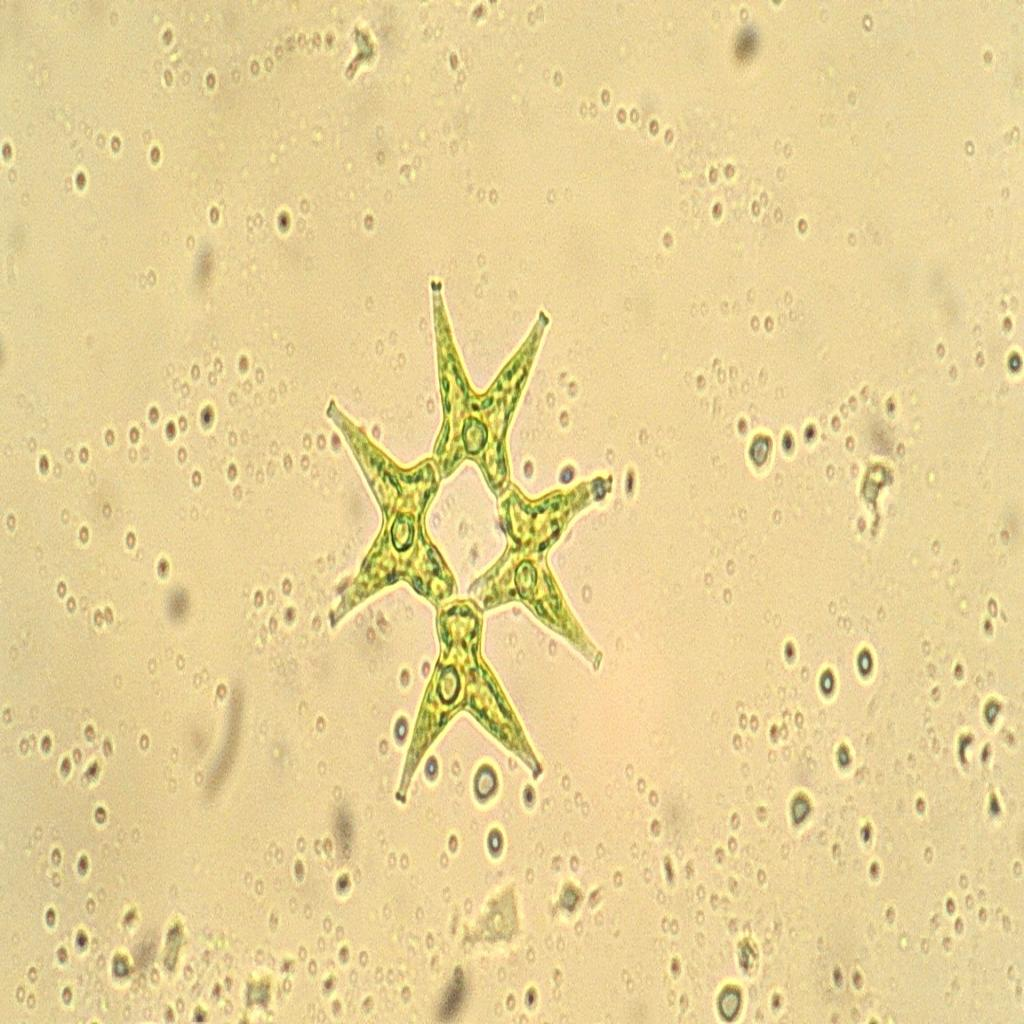Pediastrum_CT: (328, 257, 615, 830)
